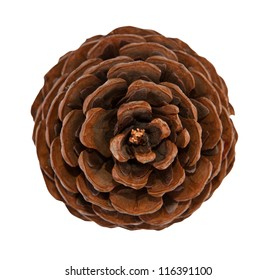Pc: (32, 22, 238, 231)
